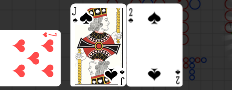2S: (127, 6, 134, 24)
7H: (41, 31, 57, 38)
